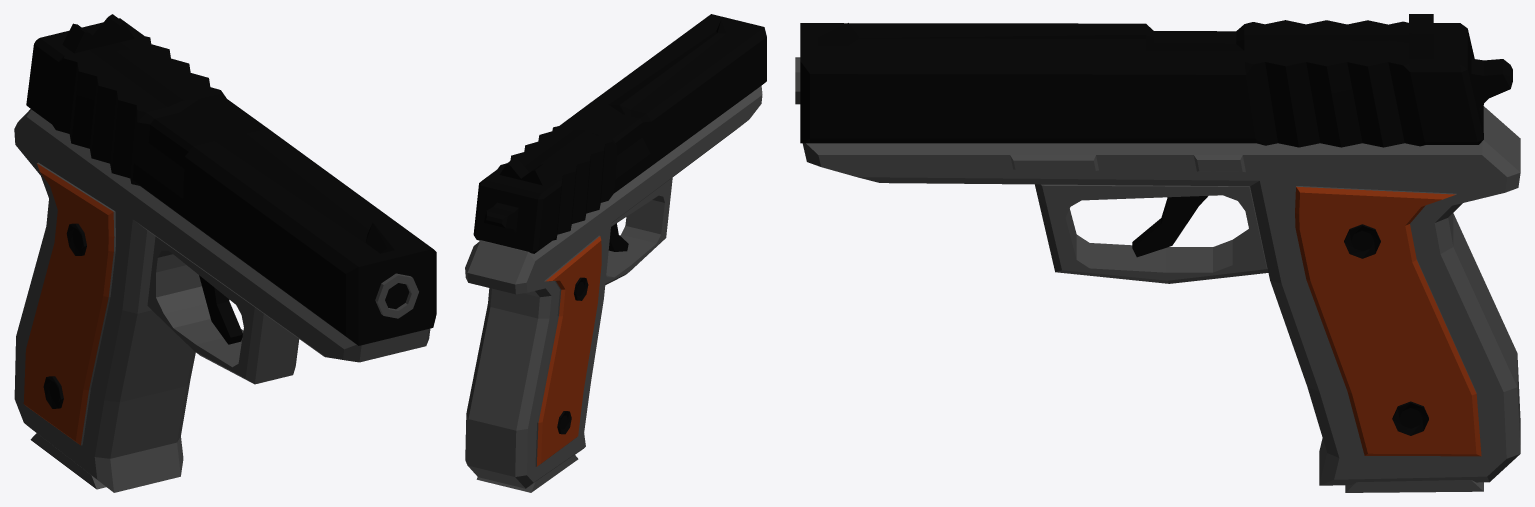
Rendered from Pistol.fbx.
3 renders of one model, left to right at view 1: azimuth 30°, elevation 25°; view 2: azimuth 150°, elevation 25°; view 3: azimuth 270°, elevation 25°, orthographic. The views are drawn at different scales.
Visible parts, largest first — view 1: Reciever, Handle, Trigger, TriggerSmall, Barrel, Magazine, Bolt2, Bolt1; view 2: Handle, Reciever, Trigger, Magazine, TriggerSmall; view 3: Handle, Reciever, Trigger, TriggerSmall, Magazine, Bolt2, Bolt1.
Boxes of the visible parts, left/top/right/bottom form: Reciever: left=26, top=14, right=436, bottom=345; Handle: left=14, top=109, right=430, bottom=492; Trigger: left=147, top=236, right=299, bottom=384; TriggerSmall: left=199, top=275, right=242, bottom=344; Barrel: left=375, top=273, right=418, bottom=318; Magazine: left=30, top=433, right=106, bottom=489; Bolt2: left=43, top=376, right=63, bottom=408; Bolt1: left=66, top=223, right=86, bottom=255; Handle: left=465, top=86, right=762, bottom=488; Reciever: left=473, top=14, right=766, bottom=253; Trigger: left=605, top=178, right=672, bottom=284; Magazine: left=476, top=454, right=578, bottom=492; TriggerSmall: left=608, top=223, right=628, bottom=251; Handle: left=802, top=106, right=1520, bottom=485; Reciever: left=800, top=14, right=1512, bottom=147; Trigger: left=1035, top=184, right=1268, bottom=283; TriggerSmall: left=1132, top=196, right=1207, bottom=257; Magazine: left=1345, top=480, right=1483, bottom=492; Bolt2: left=1392, top=401, right=1428, bottom=435; Bolt1: left=1344, top=224, right=1380, bottom=258.
Size of the model in its own units: 0.9623 by 3.87 by 5.64.
